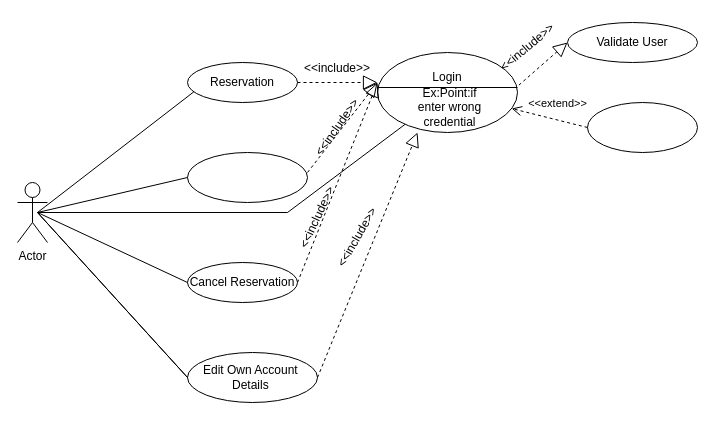
The diagram is 715 pixels wide and 421 high, and some of its shapes have lost their labels. The shapes that lost their labels are listed below. From the top down, each one's box as (x1, y1, x2, y2) in pixels, then its label:
(586, 102, 698, 152): User Name or password error
(186, 152, 308, 202): Share experience/ Give feedback
